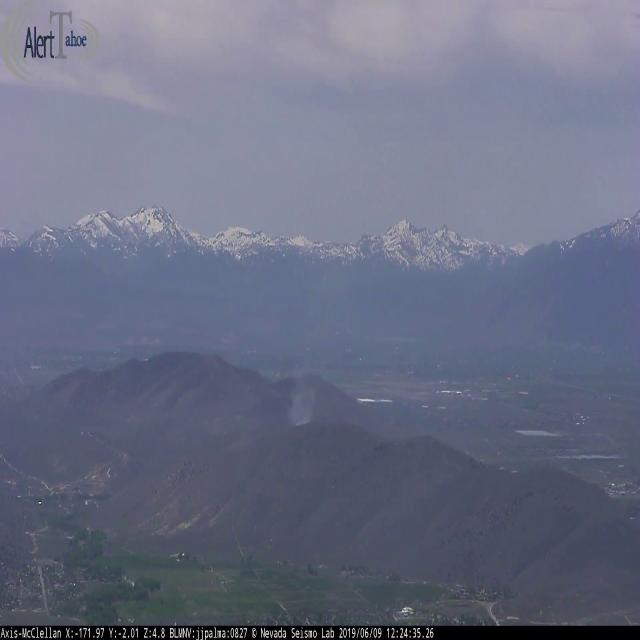smoke: (286, 303, 337, 425)
